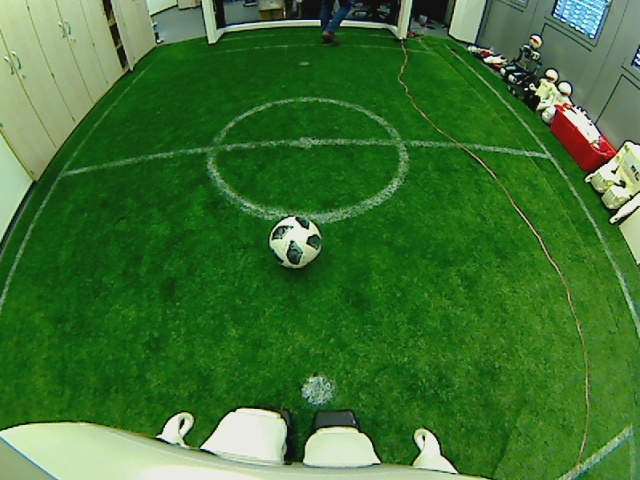ball: (266, 211, 322, 271)
